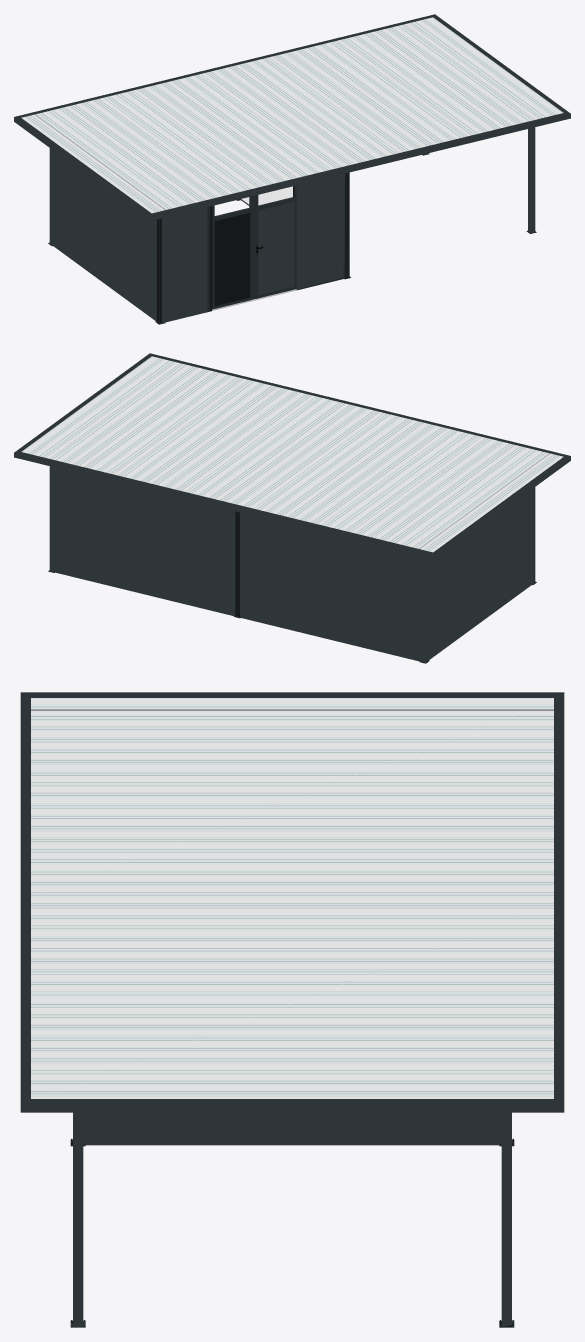
3 renders of one model, top to bottom at view 1: azimuth 30°, elevation 25°; view 2: azimuth 150°, elevation 25°; view 3: azimuth 270°, elevation 25°, orthographic. The views are drawn at different scales.
Parts seen in each view (by area): view 1: priximbattable_net_abris_de_jardin_640009_pool_house_azalee_, folha, folha_2, porta_avec_hublot; view 2: priximbattable_net_abris_de_jardin_640009_pool_house_azalee_; view 3: priximbattable_net_abris_de_jardin_640009_pool_house_azalee_.
Boxes of the visible parts, bbox=[...] form: priximbattable_net_abris_de_jardin_640009_pool_house_azalee_: bbox=[14, 14, 570, 324]; folha: bbox=[212, 195, 255, 309]; folha_2: bbox=[255, 185, 296, 298]; porta_avec_hublot: bbox=[207, 184, 301, 312]; priximbattable_net_abris_de_jardin_640009_pool_house_azalee_: bbox=[14, 353, 570, 663]; priximbattable_net_abris_de_jardin_640009_pool_house_azalee_: bbox=[20, 692, 564, 1327].
Bounding box in the file's own units: 930 × 259 × 520.
1 material, 1 textured.
